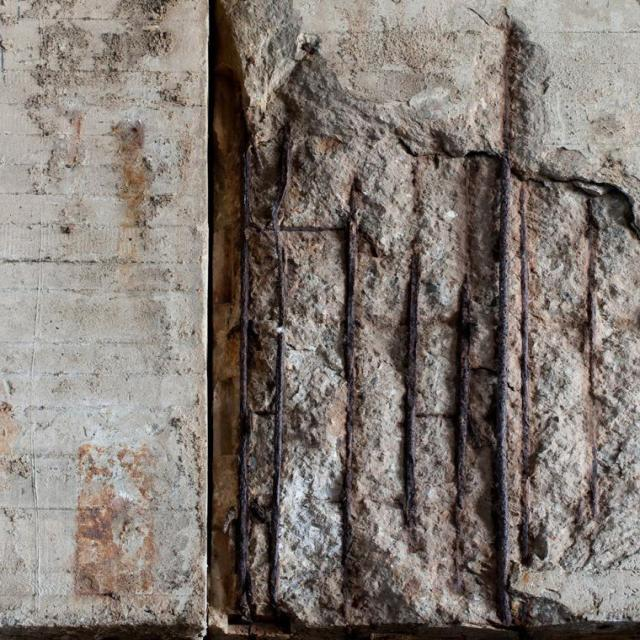Rebar: (211, 18, 638, 630)
